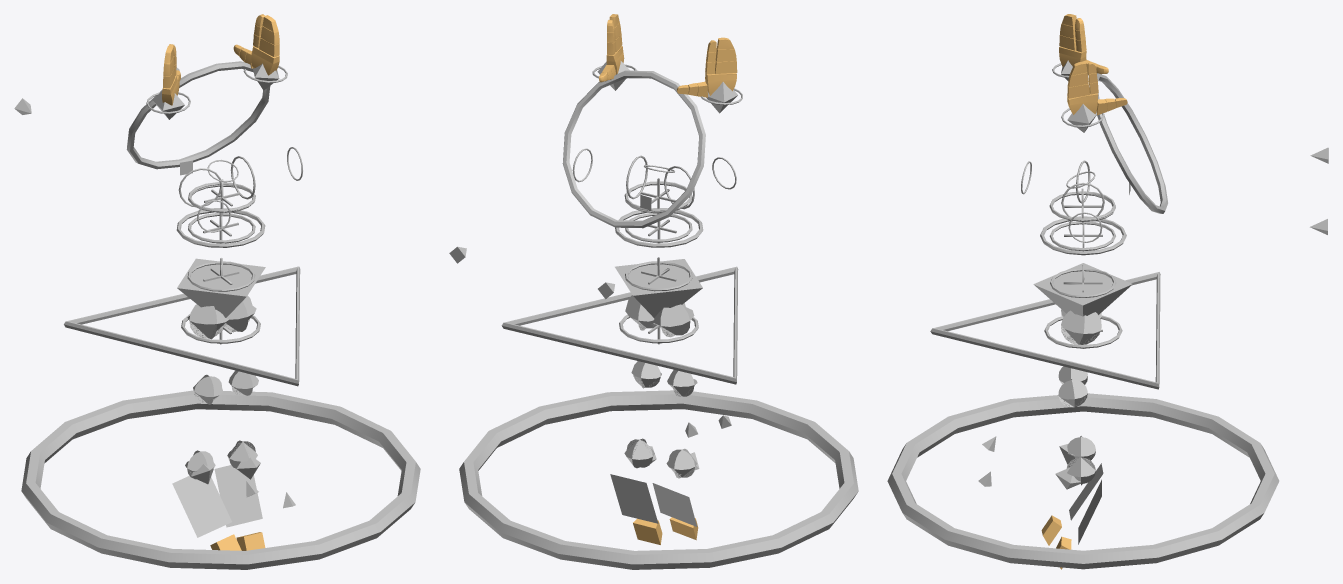
File: people.obj
The picture shows the model from 3 angles, left to right: view 1: azimuth 30°, elevation 25°; view 2: azimuth 150°, elevation 25°; view 3: azimuth 270°, elevation 25°; orthographic projection. The views are drawn at different scales.
Parts seen in each view (by area): view 1: stewie_ac_C_master stewie_ac_base_motion stewie_ac_base_rig stew, default; view 2: stewie_ac_C_master stewie_ac_base_motion stewie_ac_base_rig stew, default; view 3: stewie_ac_C_master stewie_ac_base_motion stewie_ac_base_rig stew, default.
Boxes of the visible parts, x1,y1,x2,y2 form: stewie_ac_C_master stewie_ac_base_motion stewie_ac_base_rig stew: (21,63,420,569); default: (126,14,302,550); stewie_ac_C_master stewie_ac_base_motion stewie_ac_base_rig stew: (459,61,858,569); default: (562,14,742,544); stewie_ac_C_master stewie_ac_base_motion stewie_ac_base_rig stew: (887,60,1279,569); default: (1021,14,1167,569).
Bounding box in the file's own units: 26.25 × 37.96 × 29.54.
